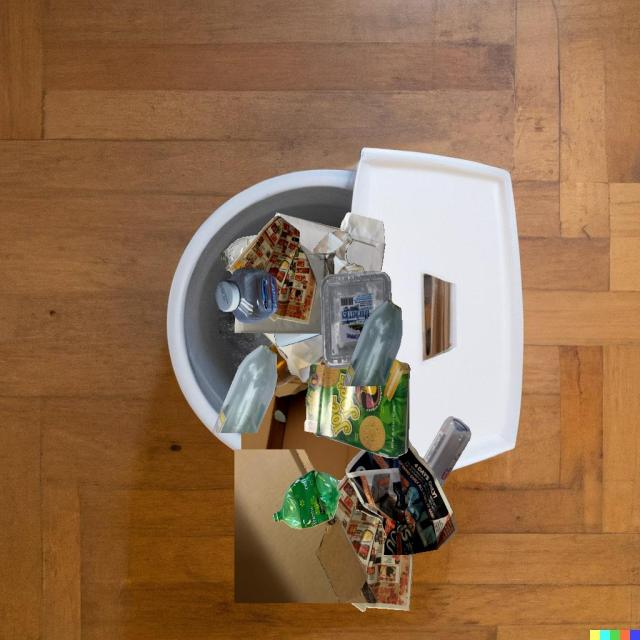cardboard: (234, 449, 378, 603), (241, 376, 362, 480), (304, 359, 410, 458)
glass: (213, 345, 277, 433), (342, 300, 403, 386), (221, 235, 257, 271), (268, 343, 297, 387), (355, 499, 383, 523), (338, 480, 342, 485)
paper: (346, 439, 457, 555), (335, 475, 413, 612), (229, 216, 316, 324), (235, 253, 336, 334), (274, 212, 385, 272), (263, 333, 323, 382), (299, 231, 364, 274), (274, 333, 322, 347)
plastic: (320, 271, 392, 369), (273, 470, 341, 529), (216, 266, 278, 323), (423, 416, 471, 487)
